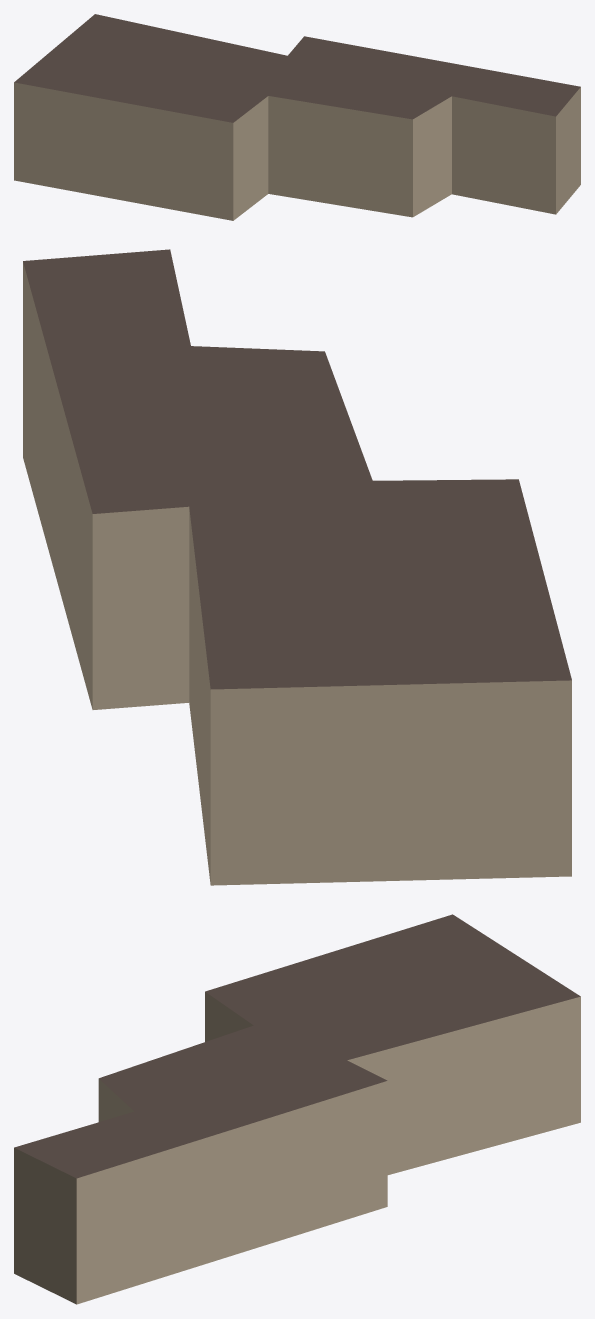
The picture shows the model from 3 angles, top to bottom: view 1: azimuth 30°, elevation 25°; view 2: azimuth 150°, elevation 25°; view 3: azimuth 270°, elevation 25°; orthographic projection. The views are drawn at different scales.
Parts seen in each view (by area): view 1: HP-w1512468504; view 2: HP-w1512468504; view 3: HP-w1512468504.
Boxes of the visible parts, <box> form: HP-w1512468504: <box>14,14,580,220</box>; HP-w1512468504: <box>23,249,571,885</box>; HP-w1512468504: <box>14,914,580,1304</box>.
Bounding box in the file's own units: 40.43 × 9 × 36.68.
